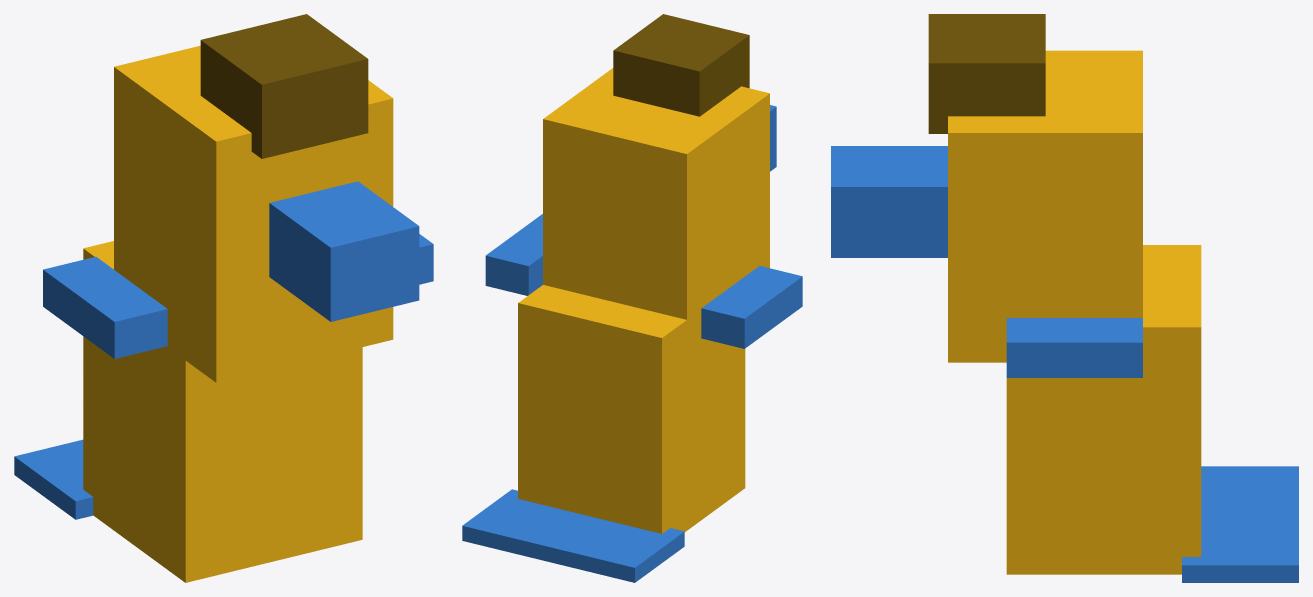
Rendered from bananita_dolphinita.glb.
3 views of the same model, side by side, from view 1: azimuth 30°, elevation 25°; view 2: azimuth 150°, elevation 25°; view 3: azimuth 270°, elevation 25° (orthographic). The views are drawn at different scales.
Visible parts, largest first — view 1: brainrot; view 2: brainrot; view 3: brainrot.
Part boxes in pixels (x1,y1,x2,y2): brainrot: (14, 14, 433, 582); brainrot: (462, 14, 802, 582); brainrot: (831, 14, 1298, 582).
Bounding box in the file's own units: 3.21 × 5 × 4.29.
Materials: 1 (1 with a texture image).
